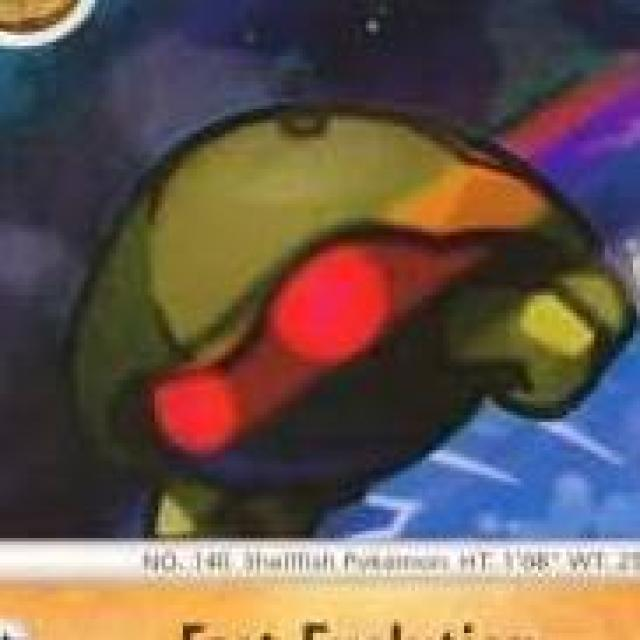Kabuto: (50, 99, 640, 559)
